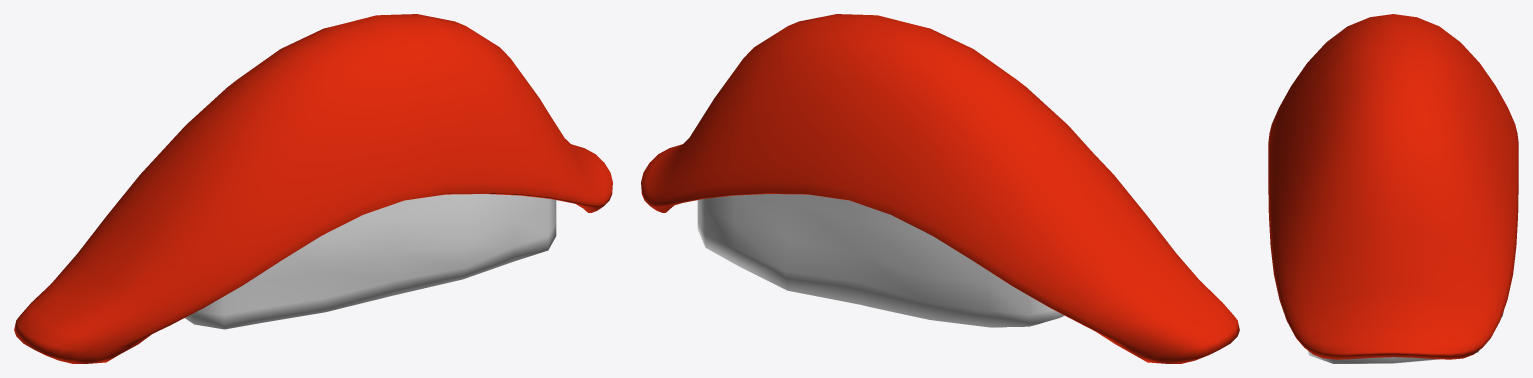
3 renders of one model, left to right at view 1: azimuth 30°, elevation 25°; view 2: azimuth 150°, elevation 25°; view 3: azimuth 270°, elevation 25°, orthographic. The views are drawn at different scales.
Parts seen in each view (by area): view 1: pCube3, pCube1; view 2: pCube3, pCube1; view 3: pCube3, pCube1.
Part boxes in pixels (x1,y1,x2,y2): pCube3: (14,14,612,363); pCube1: (185,194,556,329); pCube3: (641,14,1239,363); pCube1: (697,194,1064,327); pCube3: (1268,14,1518,359); pCube1: (1308,312,1503,363).
Size of the model in its own units: 2 by 0.844 by 0.7117.
